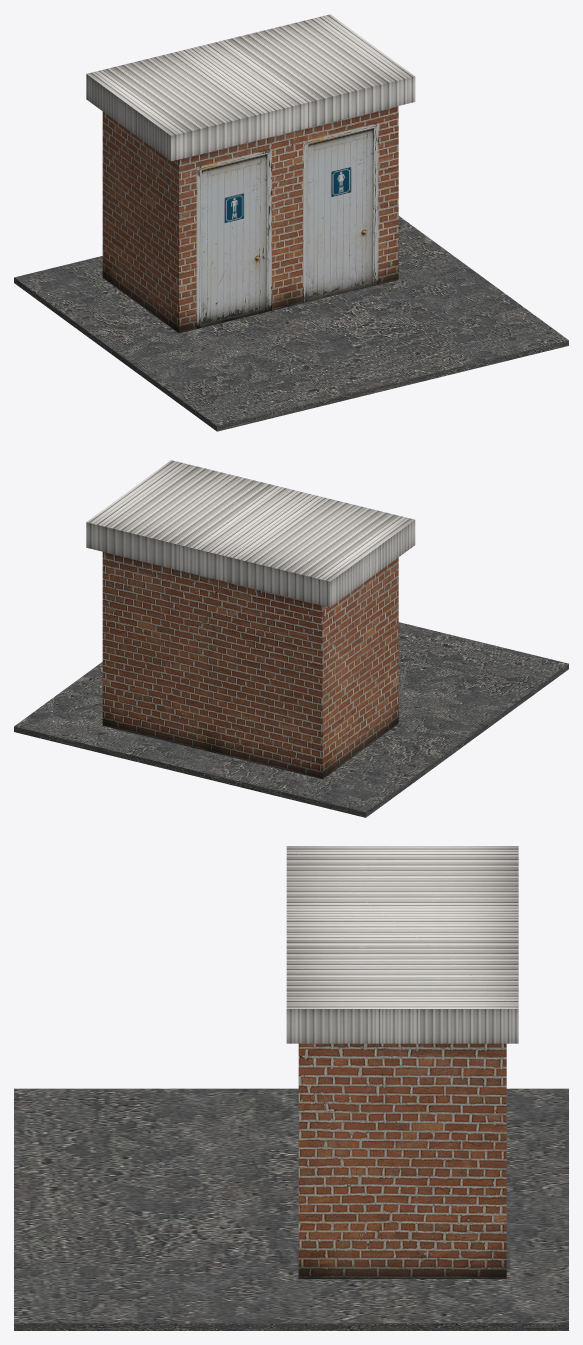
The model's file is r402_tualet1.FBX.
The picture shows the model from 3 angles, top to bottom: view 1: azimuth 30°, elevation 25°; view 2: azimuth 150°, elevation 25°; view 3: azimuth 270°, elevation 25°; orthographic projection. The views are drawn at different scales.
Visible parts, largest first — view 1: r402_tualet1; view 2: r402_tualet1; view 3: r402_tualet1.
Boxes of the visible parts, x1=… form: r402_tualet1: x1=14, y1=14, x2=568, y2=431; r402_tualet1: x1=14, y1=460, x2=568, y2=817; r402_tualet1: x1=14, y1=846, x2=568, y2=1330.
Size of the model in its own units: 4 by 4 by 2.28.
